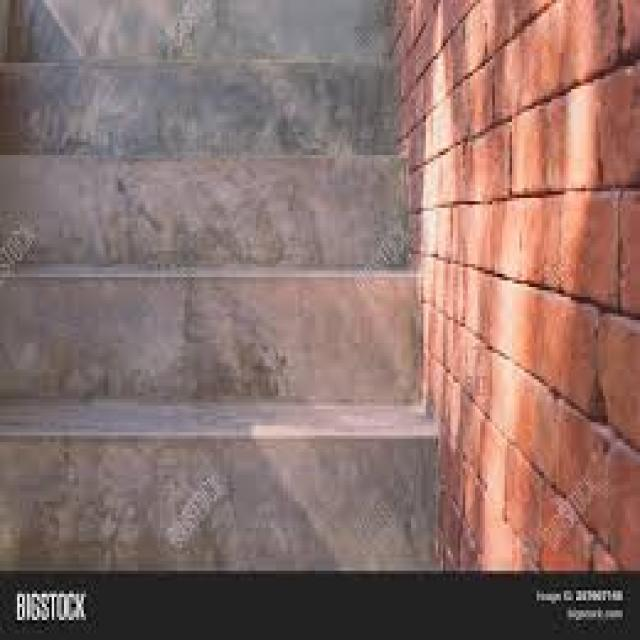upstair: (1, 1, 446, 568)
